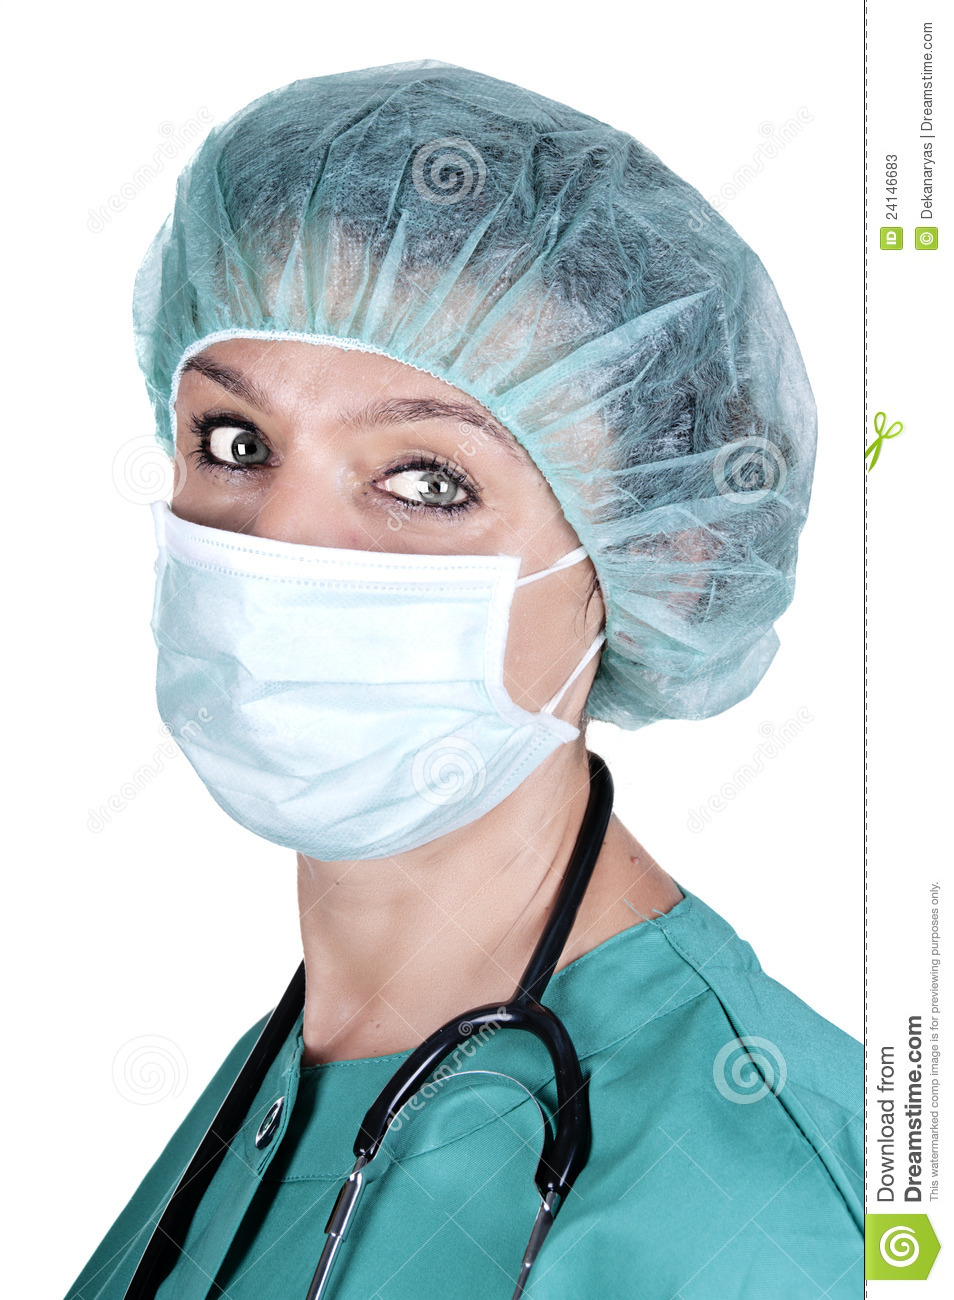mask: (141, 503, 553, 865)
